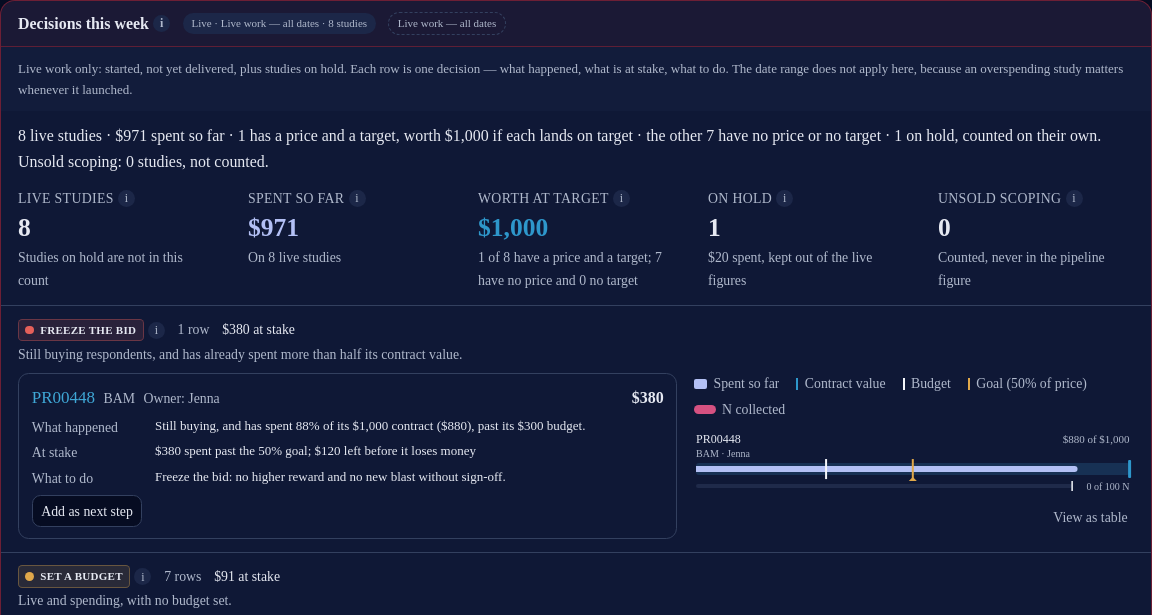
ThisWeekTab › adds a next step only after confirming, with the project page’s write
The width and height of the screenshot is (1152, 615).
Click the button "Add as next step" at (87, 511), box top-left (32, 495), bottom-right (142, 527)
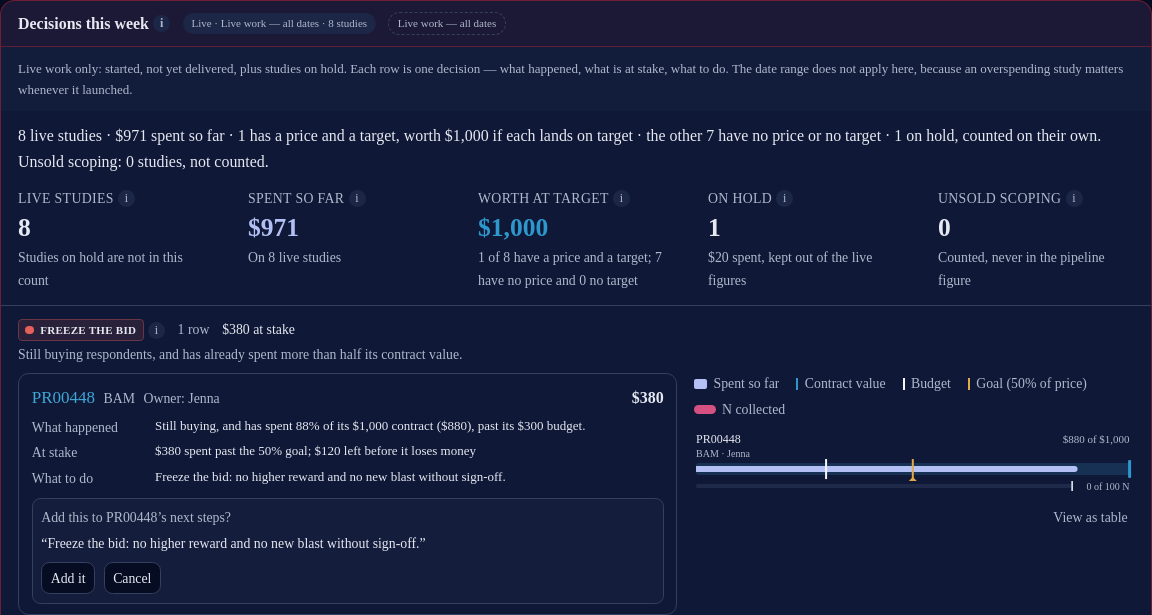
Check: the button "Add it" is enabled
Click the button "Add it" at (68, 578), box top-left (41, 562), bottom-right (95, 594)
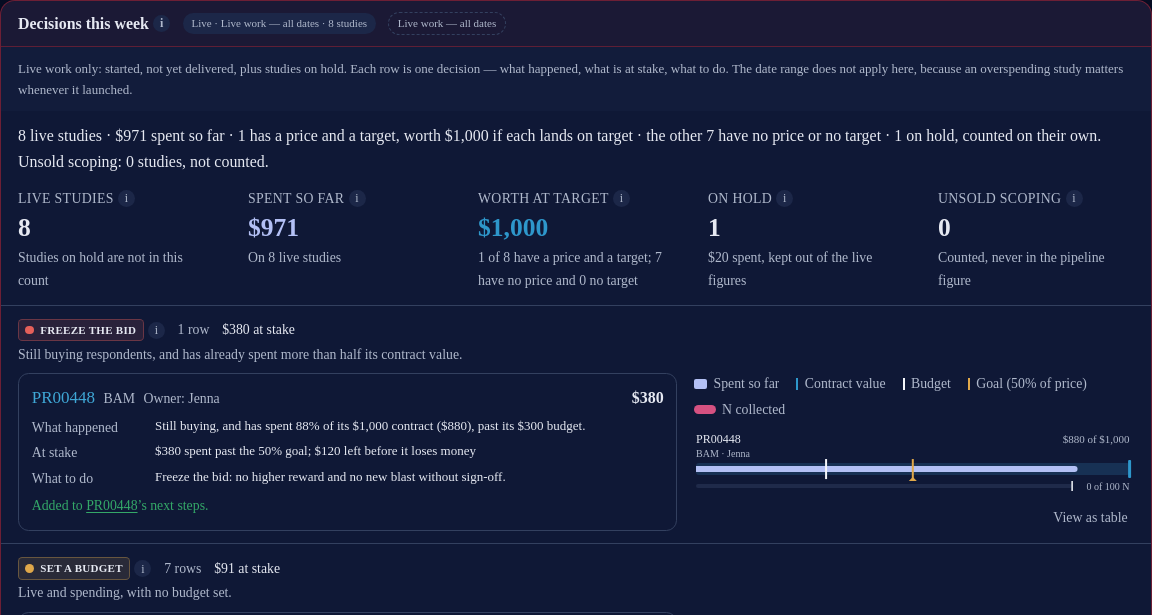
Check: the text "Added to PR00448 ’s next steps." is shown, box top-left (32, 498), bottom-right (208, 513)
